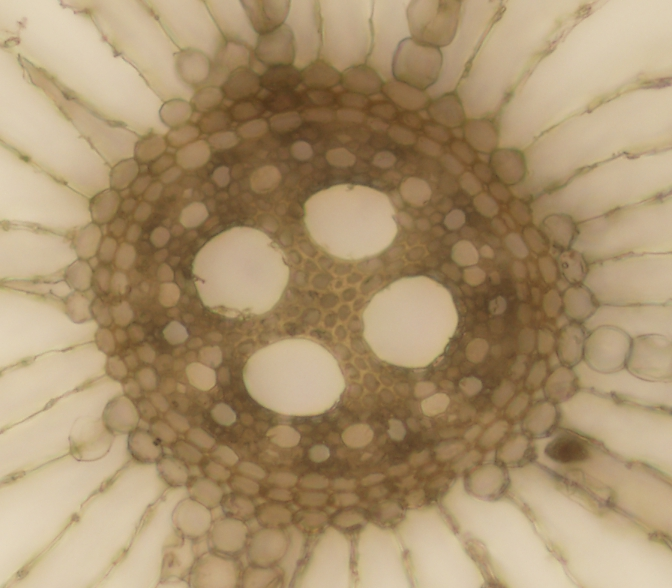lm: (191, 226, 291, 319), (361, 274, 458, 367), (240, 336, 348, 415), (303, 182, 397, 262)
